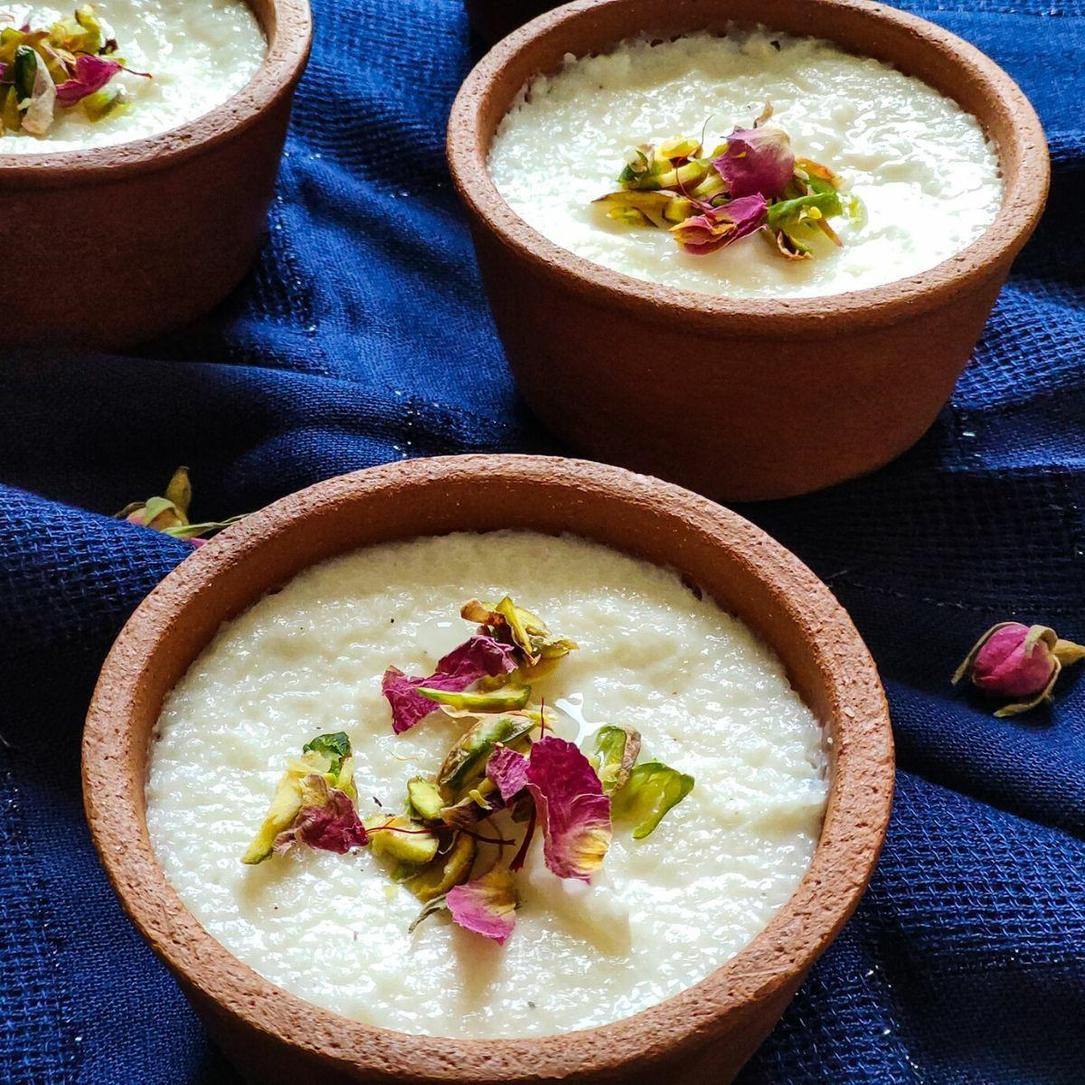Kheer: (148, 528, 817, 1024), (494, 20, 1003, 290), (0, 0, 270, 146)
